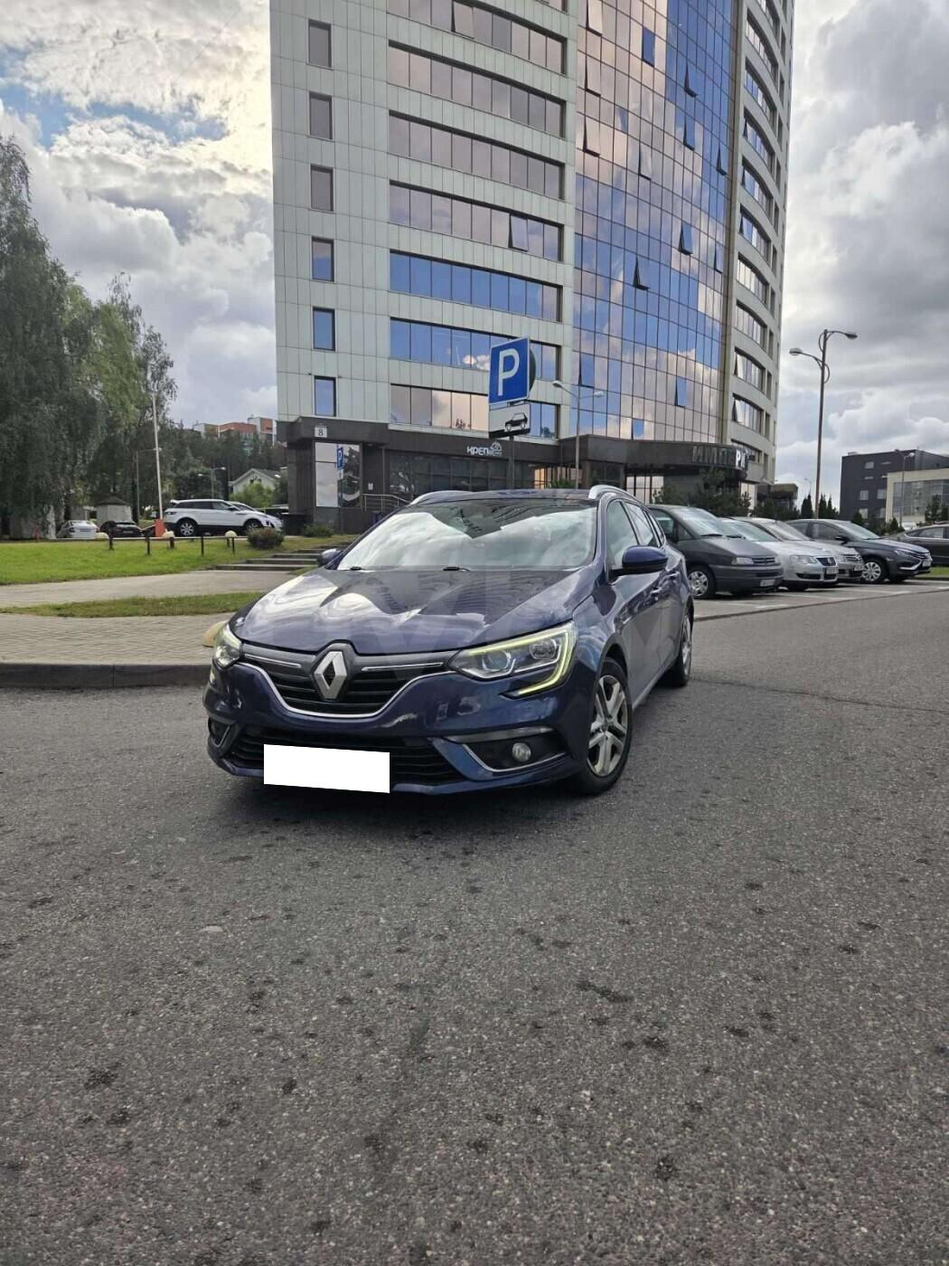Megane_2016-2020: (202, 481, 705, 834)
